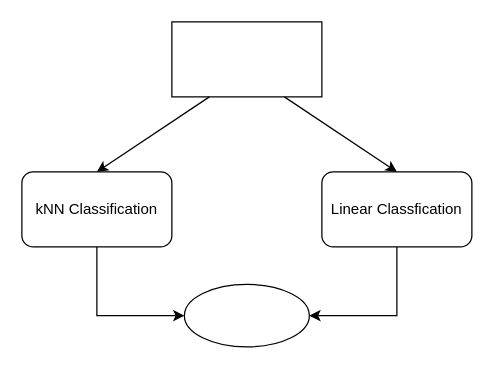
Some shapes in this 494 by 369 pixel diagram are drawn without their labels. The shapes that lost their labels are listed below. From the top down, each one's centre as x and y in pixels, then its label:
the point at 246,59: Experiment
the point at 246,315: Cost Function (Error)
